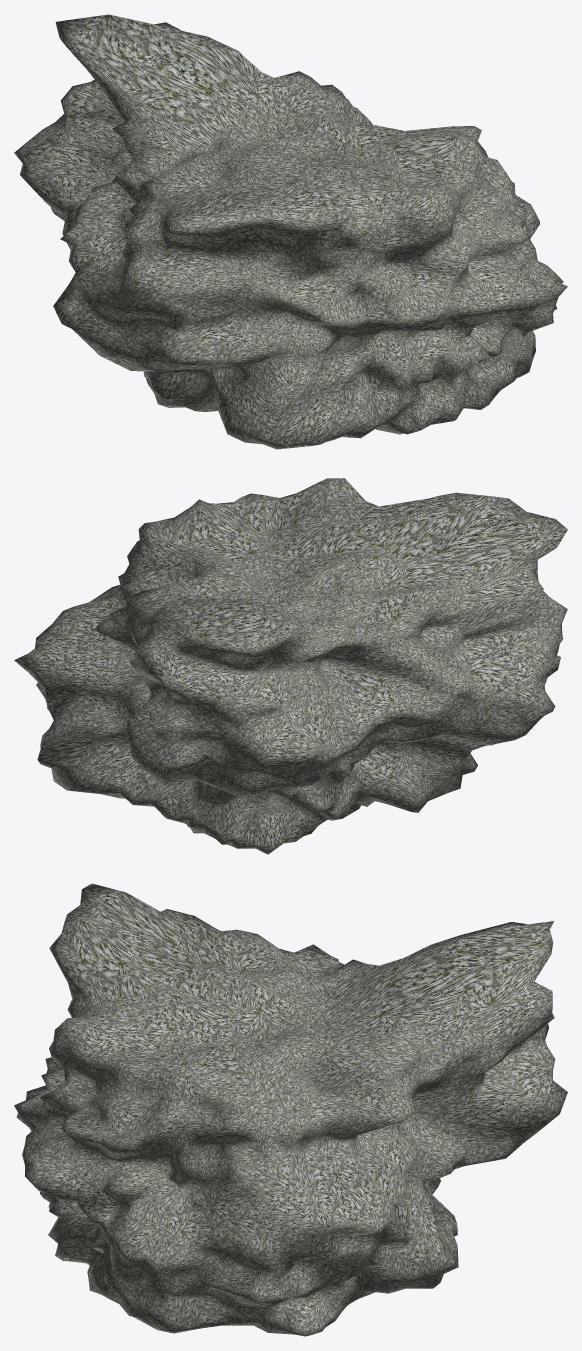
The model's file is metal1.fbx.
3 renders of one model, top to bottom at view 1: azimuth 30°, elevation 25°; view 2: azimuth 150°, elevation 25°; view 3: azimuth 270°, elevation 25°, orthographic. The views are drawn at different scales.
Visible parts, largest first — view 1: Cube; view 2: Cube; view 3: Cube.
Boxes of the visible parts, box(x1,y1,x2,y2) form: Cube: box(14, 14, 567, 449); Cube: box(14, 478, 567, 854); Cube: box(14, 883, 567, 1336).
Size of the model in its own units: 4.17 by 2.41 by 4.01.
Materials: 1 (1 with a texture image).
